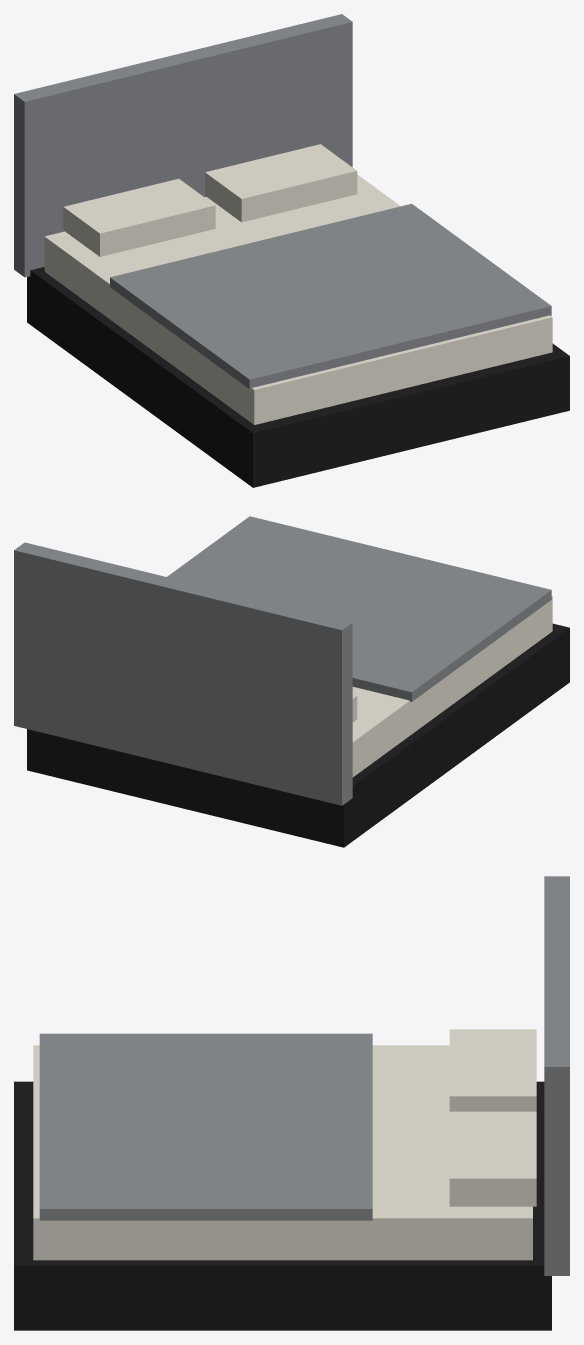
The model's file is GH_Bed_Double_Modern_01.glb.
3 renders of one model, top to bottom at view 1: azimuth 30°, elevation 25°; view 2: azimuth 150°, elevation 25°; view 3: azimuth 270°, elevation 25°, orthographic. The views are drawn at different scales.
Visible parts, largest first — view 1: GH_Bed_Double_Modern_01; view 2: GH_Bed_Double_Modern_01; view 3: GH_Bed_Double_Modern_01.
Boxes of the visible parts, x1,y1,x2,y2 form: GH_Bed_Double_Modern_01: (14,14,569,487); GH_Bed_Double_Modern_01: (14,516,569,847); GH_Bed_Double_Modern_01: (14,876,569,1330).
Size of the model in its own units: 1.76 by 1.15 by 2.17.
Materials: 1 (1 with a texture image).
